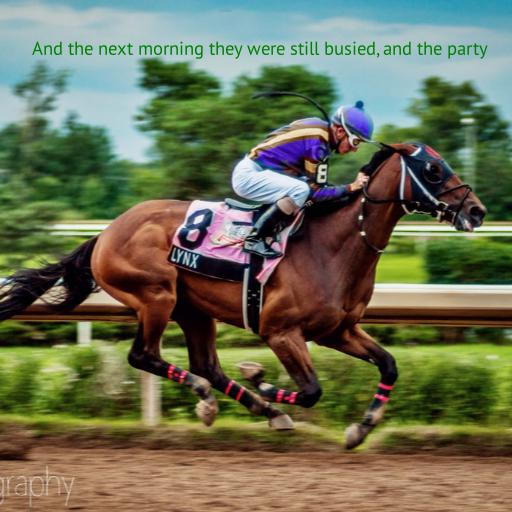PT Sans: (32, 41, 488, 59)
